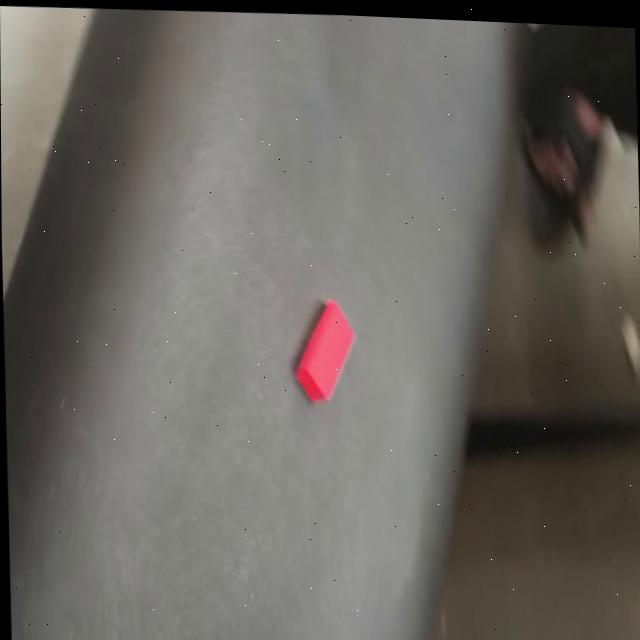red block: (291, 297, 357, 407)
